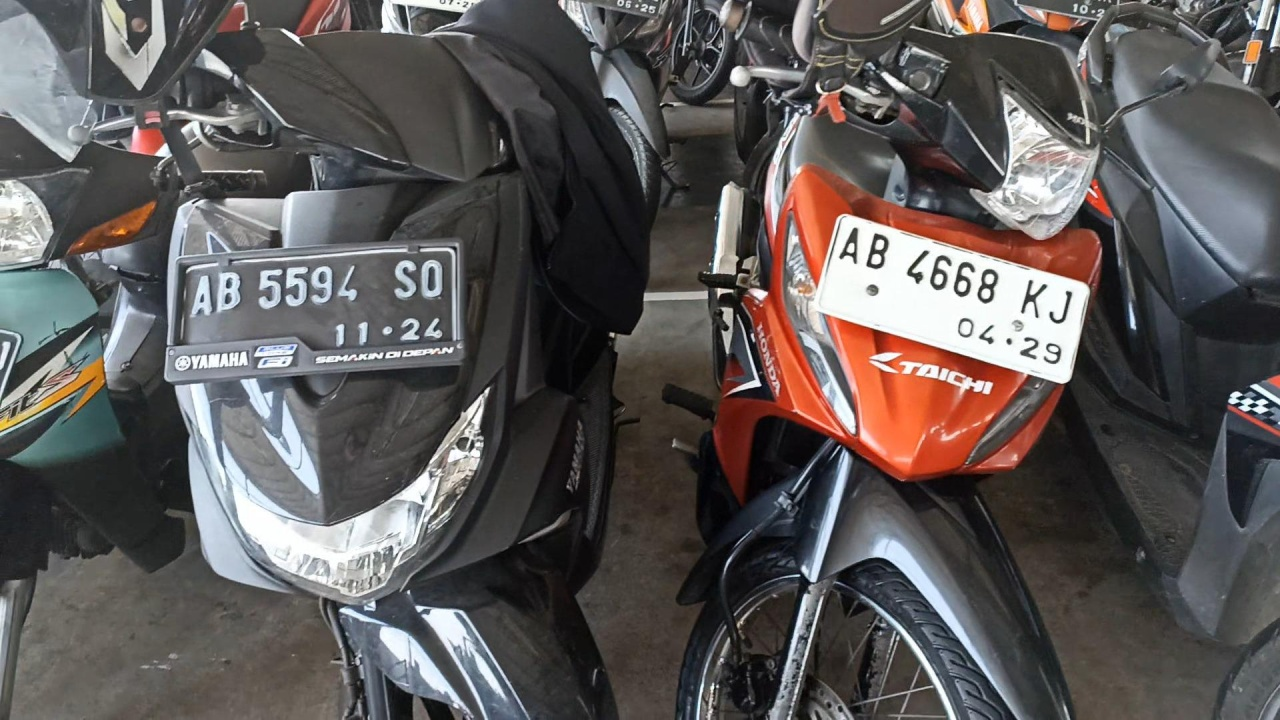plate: (815, 214, 1091, 383), (178, 249, 458, 366)
